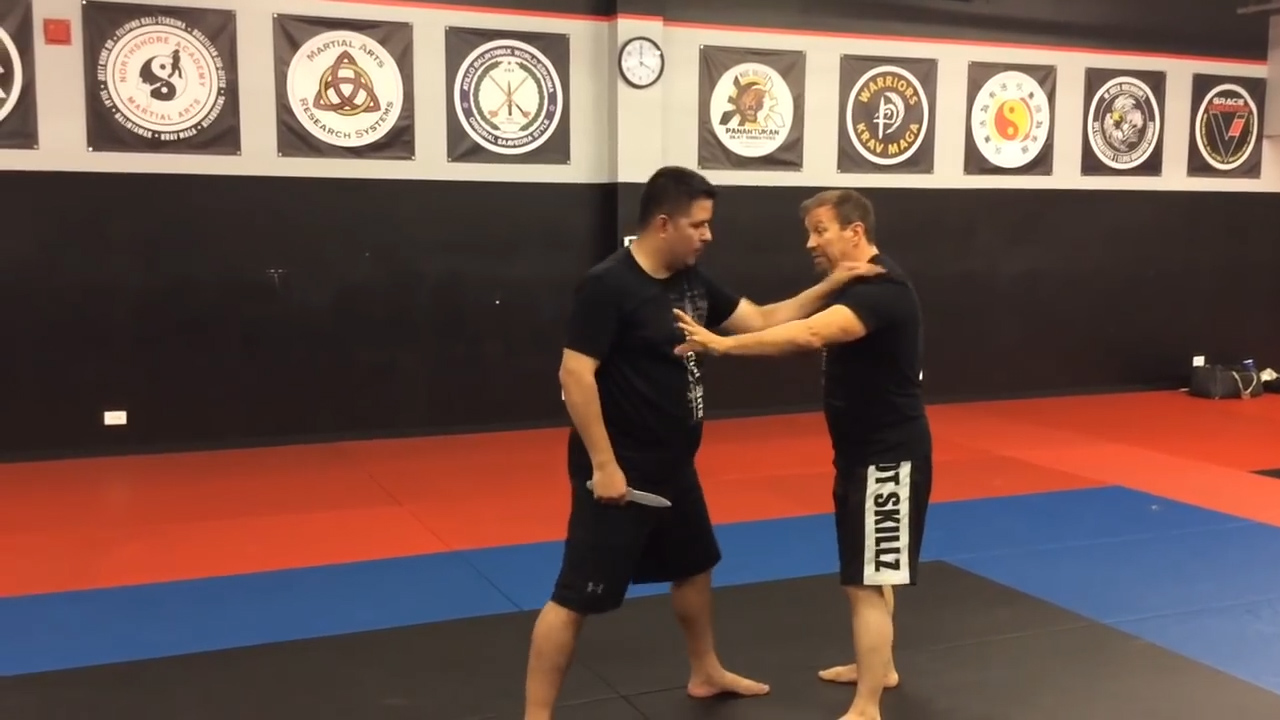knife: (584, 476, 679, 512)
